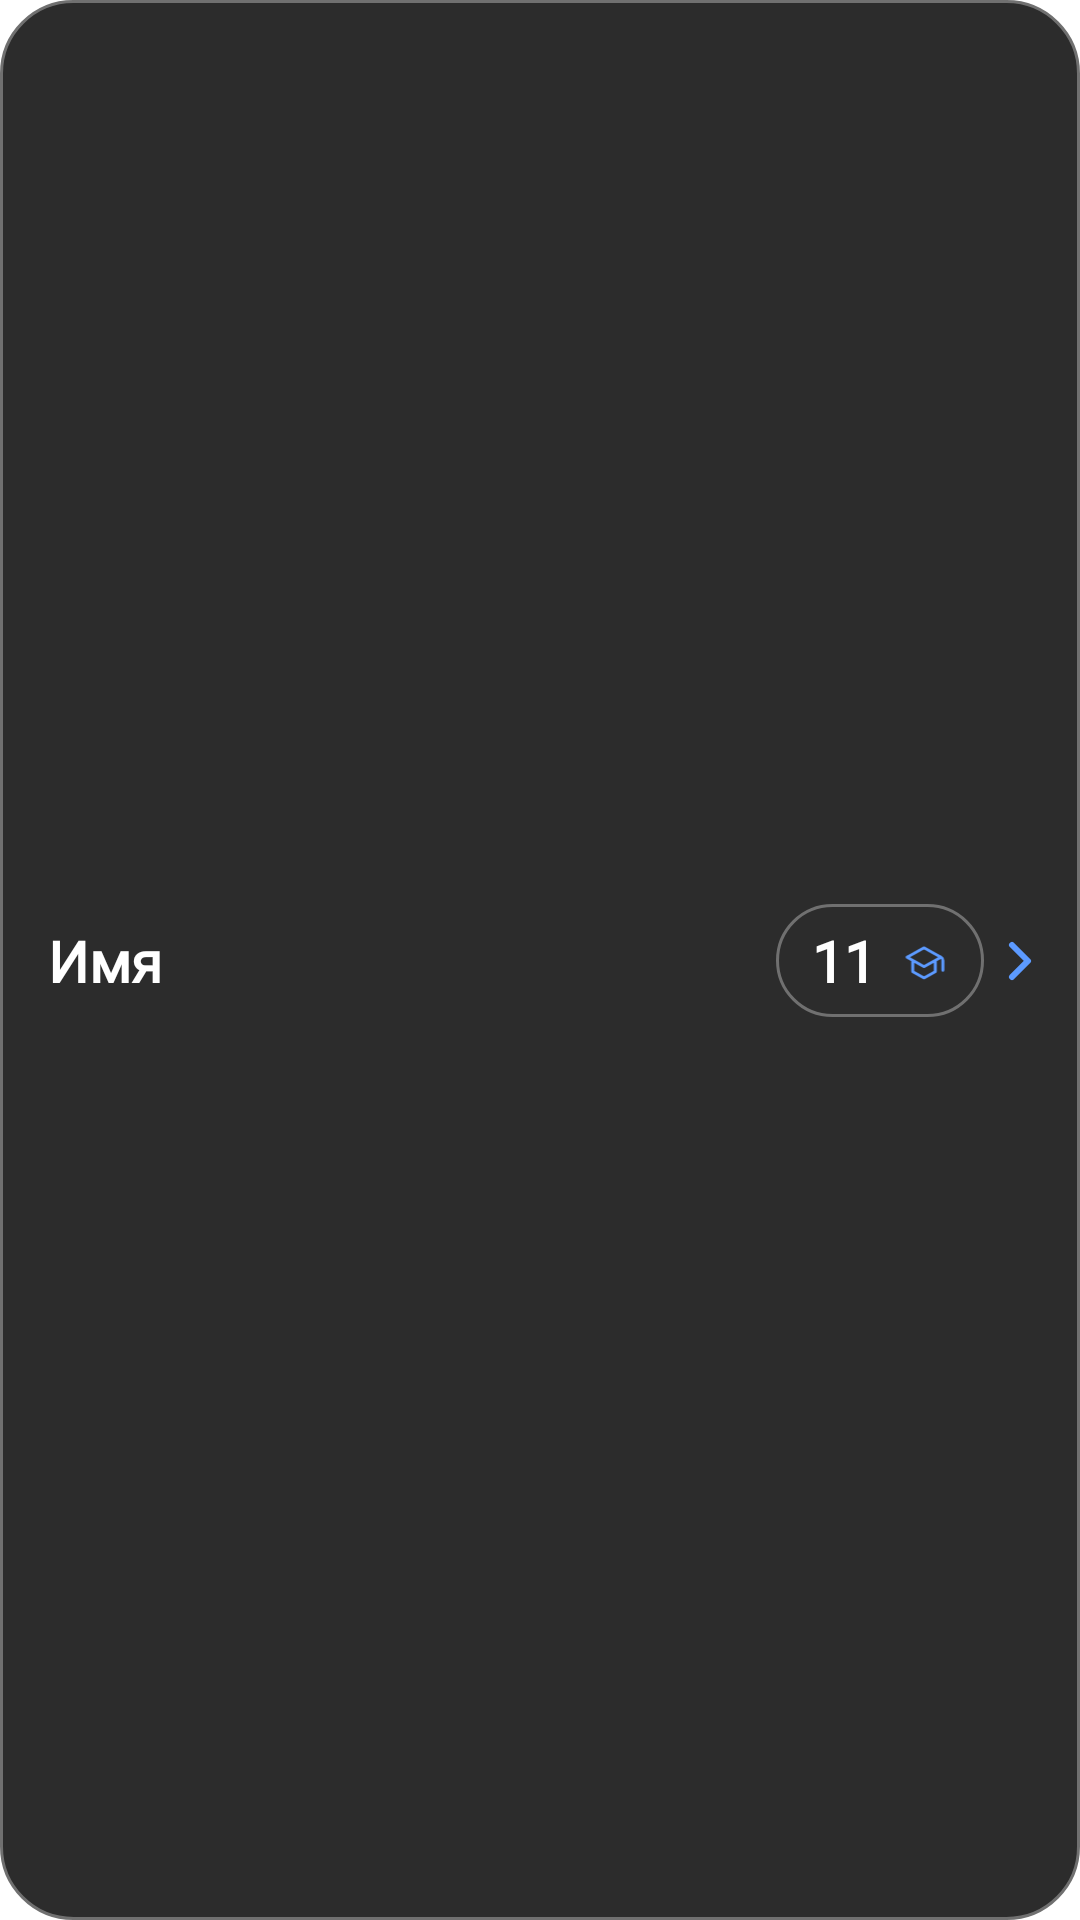

Named icons in this screenshot (1080×1920) and their bounding boxes, {"x1": x1, "y1": y1, "x2": x2, "y2": y2}:
chevron right: {"x1": 1009, "y1": 942, "x2": 1031, "y2": 980}
school cap: {"x1": 905, "y1": 946, "x2": 945, "y2": 980}
